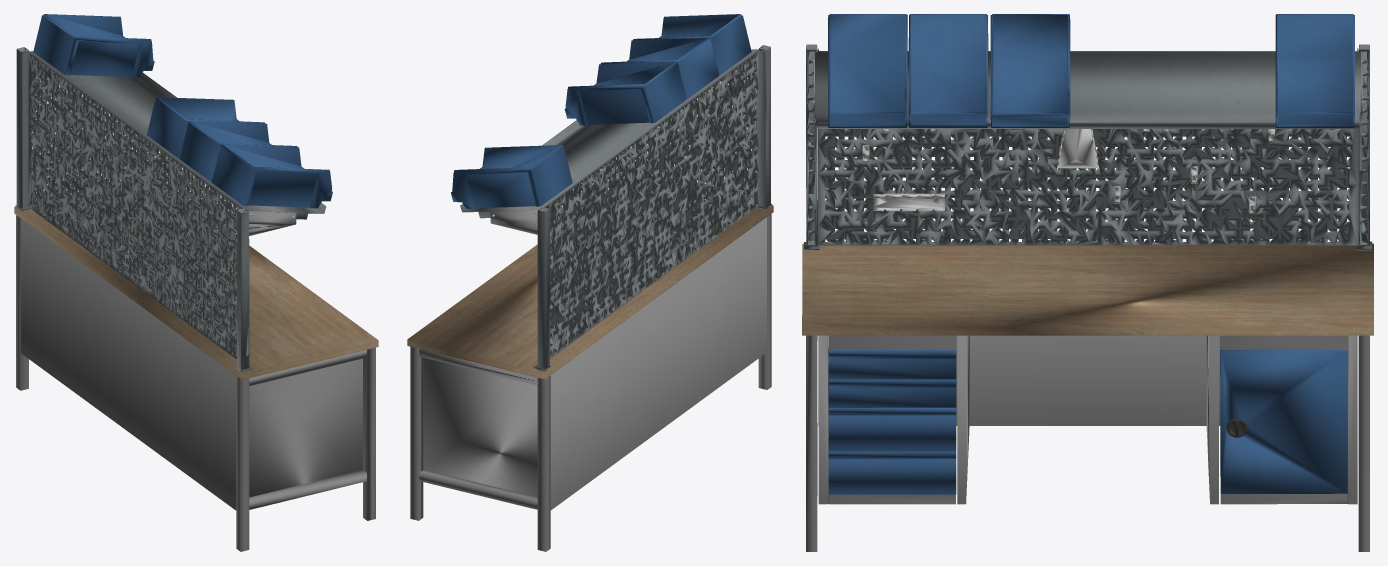
Rendered from bench.glb.
3 views of the same model, side by side, from view 1: azimuth 30°, elevation 25°; view 2: azimuth 150°, elevation 25°; view 3: azimuth 270°, elevation 25° (orthographic). The views are drawn at different scales.
Visible parts, largest first — view 1: table_01_mesh_00, door_01_mesh_01; view 2: table_01_mesh_00, door_01_mesh_01; view 3: table_01_mesh_00, door_01_mesh_01, drawersA_01_mesh_01.
Part boxes in pixels (x1=…): table_01_mesh_00: x1=14, y1=47, x2=378, y2=551; door_01_mesh_01: x1=33, y1=14, x2=332, y2=208; table_01_mesh_00: x1=407, y1=45, x2=773, y2=551; door_01_mesh_01: x1=451, y1=14, x2=751, y2=208; table_01_mesh_00: x1=802, y1=44, x2=1373, y2=551; door_01_mesh_01: x1=828, y1=14, x2=1354, y2=494; drawersA_01_mesh_01: x1=812, y1=60, x2=1363, y2=436.
Size of the model in its own units: 0.5319 by 1.38 by 1.53.
Materials: 6 (5 with a texture image).
